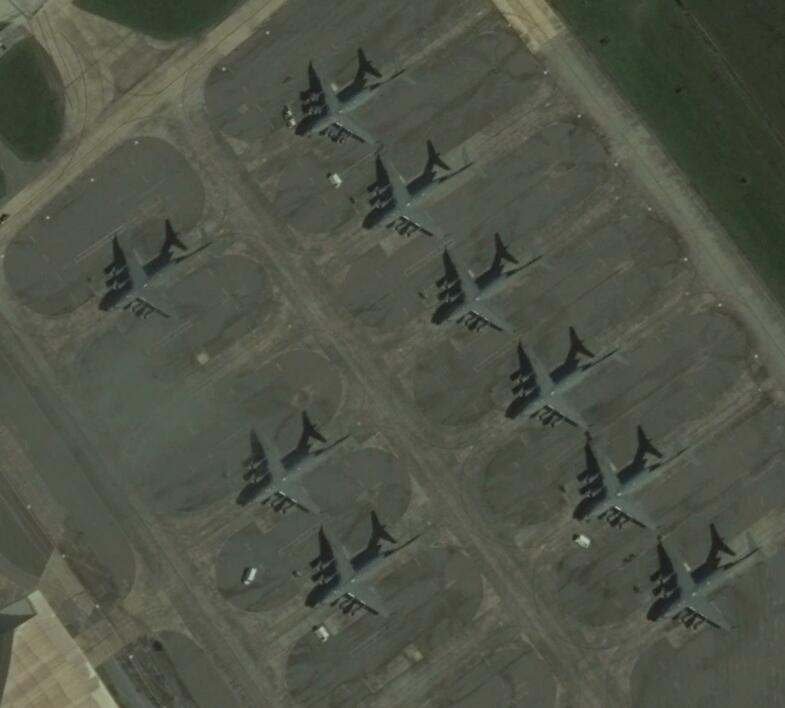A3: (96, 226, 194, 322), (575, 437, 670, 536), (239, 419, 331, 518), (652, 536, 743, 635), (506, 340, 602, 432), (309, 523, 398, 620), (295, 57, 387, 150), (366, 154, 459, 243), (432, 246, 525, 333)
